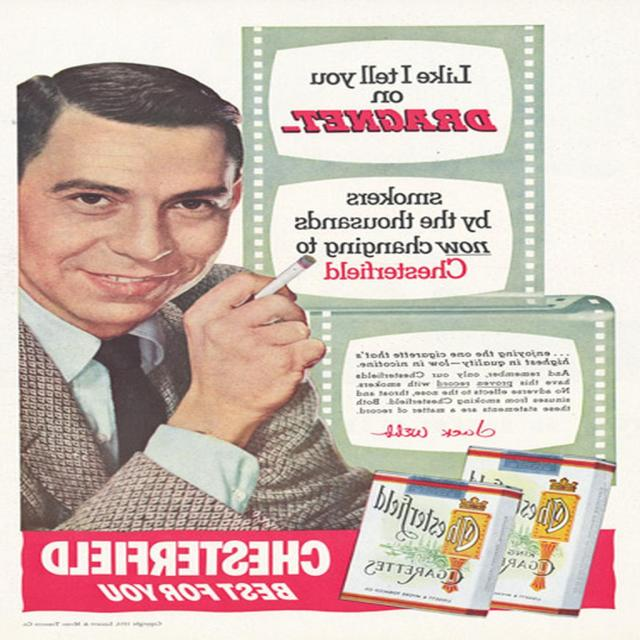smoking: (12, 62, 352, 397)
